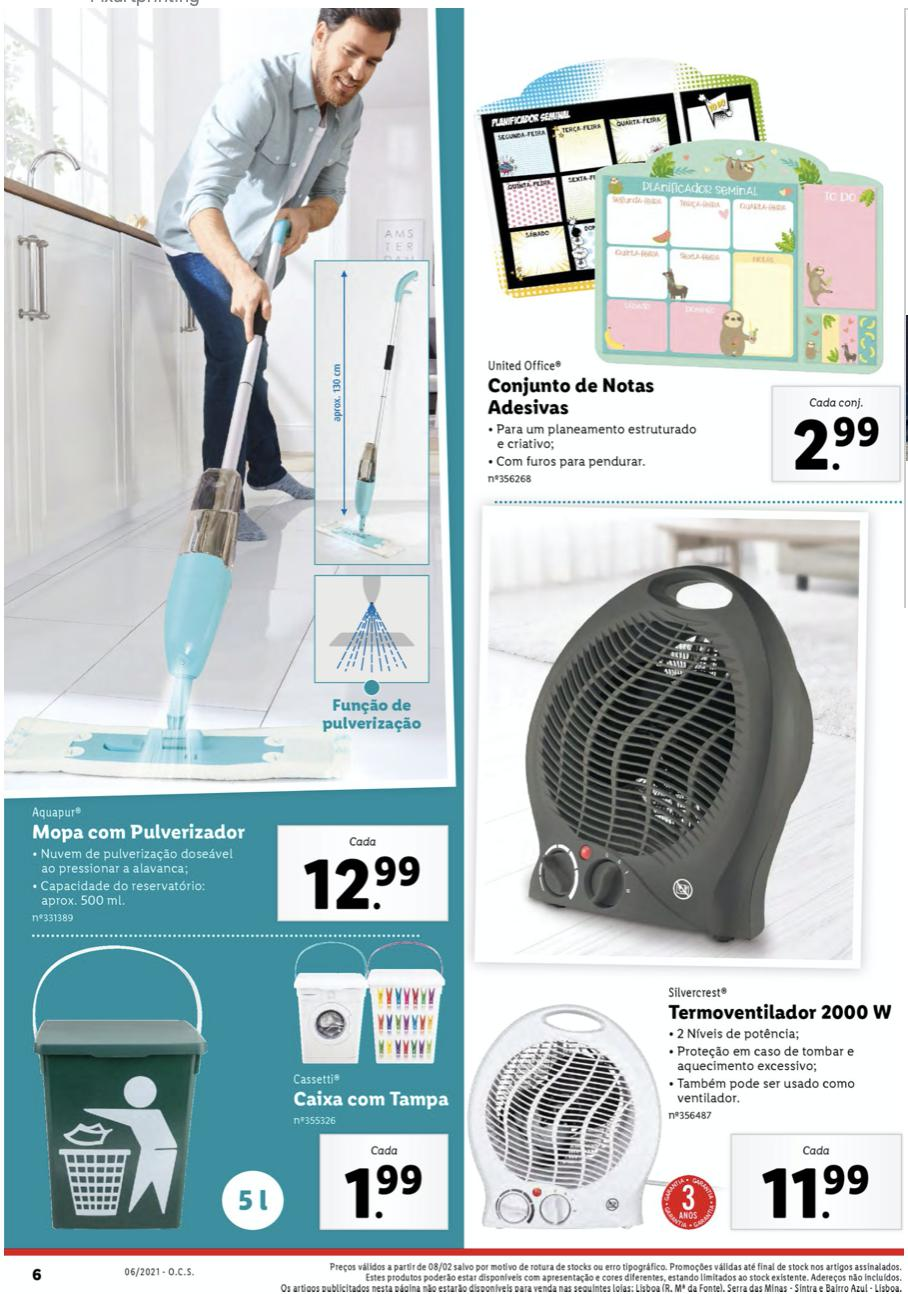name: (481, 373, 663, 418), (25, 816, 257, 850), (665, 997, 899, 1026), (284, 1083, 455, 1115)
price: (300, 852, 426, 918), (752, 1157, 878, 1223), (784, 412, 884, 481), (344, 1155, 436, 1221)
product: (20, 10, 429, 928), (471, 12, 904, 492), (25, 939, 458, 1245), (473, 965, 902, 1241)
